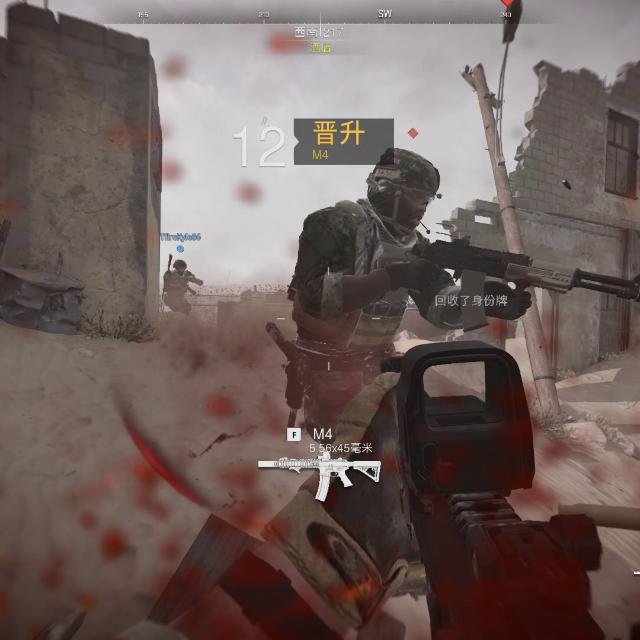MW2_body: (292, 125, 525, 443)
